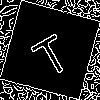T: (25, 25, 74, 80)
